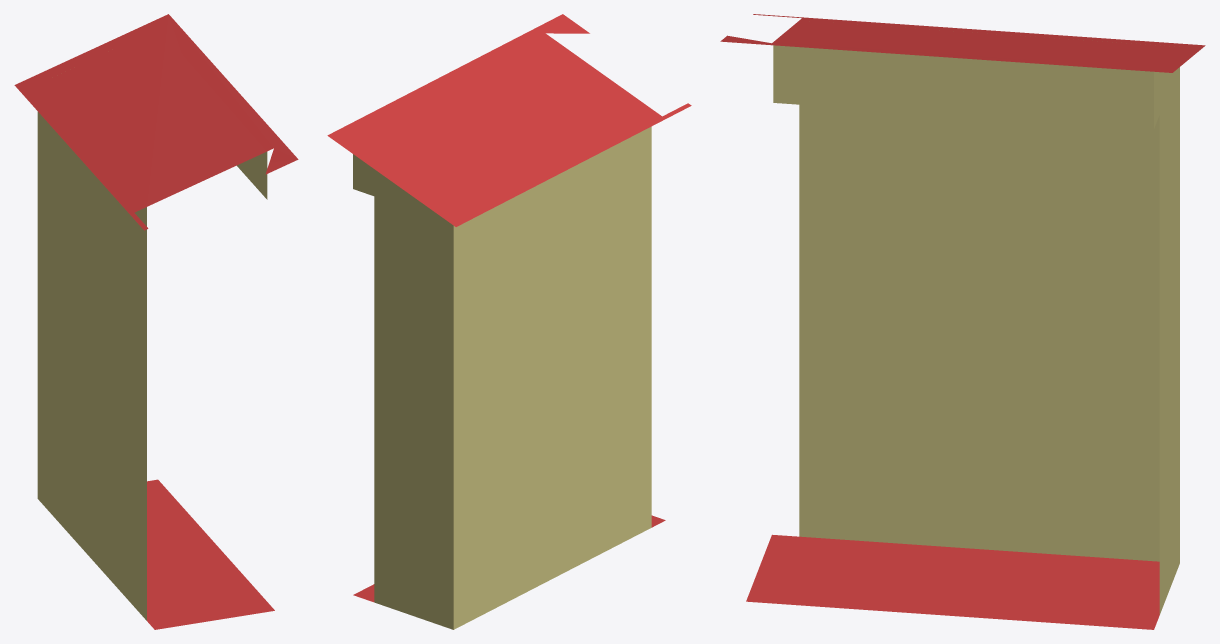
The picture shows the model from 3 angles, left to right: view 1: azimuth 30°, elevation 25°; view 2: azimuth 150°, elevation 25°; view 3: azimuth 270°, elevation 25°; orthographic projection. The views are drawn at different scales.
Bounding box in the file's own units: 3.07 × 5.39 × 6.95.
